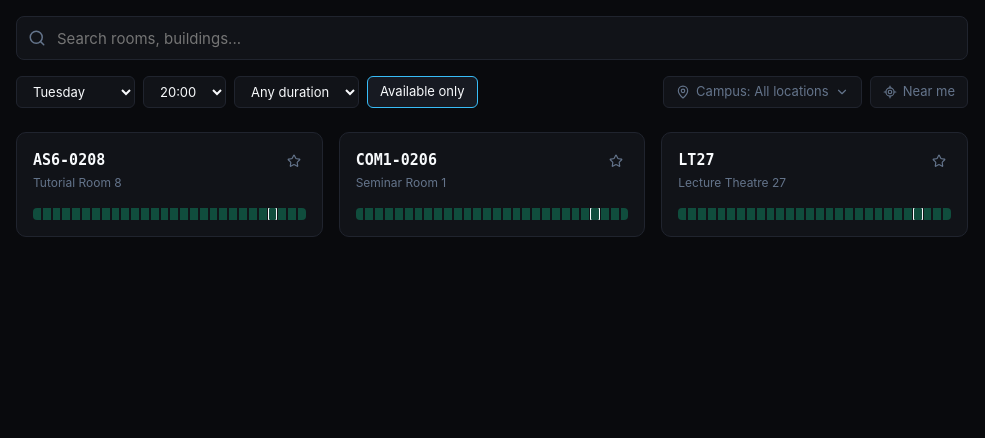
Test case: VenueFinder › allows toggling campus locations via the dropdown to filter venues and update proximity
Check: the heading "COM1-0206" is shown, box [356,149,446,172]
Check: the heading "AS6-0208" is shown, box [33,151,105,169]
Note: Open dropdown
Click the button "Campus: All locations" at point(762, 92), box [663,76,862,108]
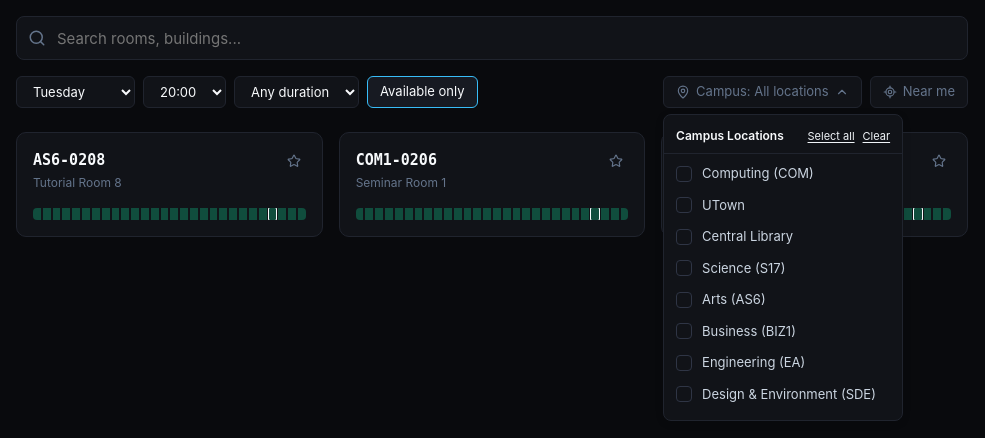
Check: the text "Campus Locations" is shown, box [676,127,784,145]
Note: Tick Computing (COM)
Click the checkbox labelled "Computing (COM)" at point(684, 174), box [676,166,692,182]
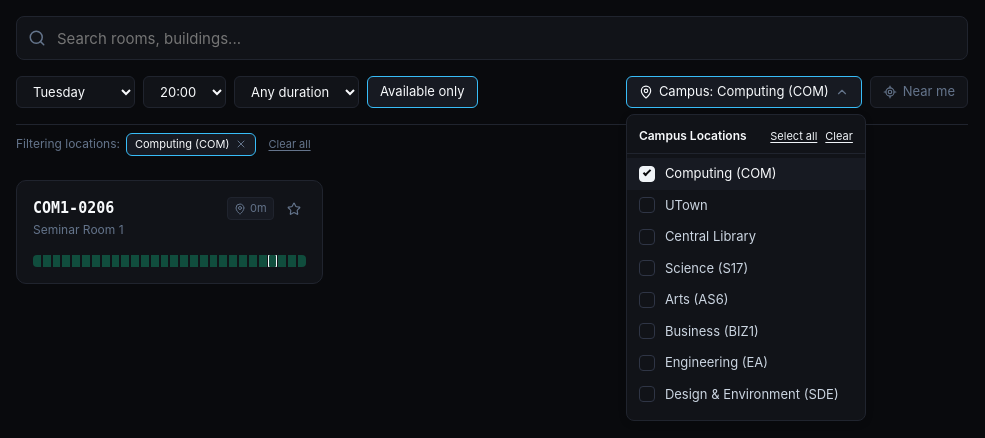
Check: the heading "AS6-0208" is gone
Check: the text "0m" is shown, box [227,197,274,220]
Check: the button "Campus: Computing (COM)" is shown, box [626,76,862,108]
Note: Tick Arts (AS6) as well
Click the checkbox labelled "Arts (AS6)" at point(647, 300), box [639,292,655,308]
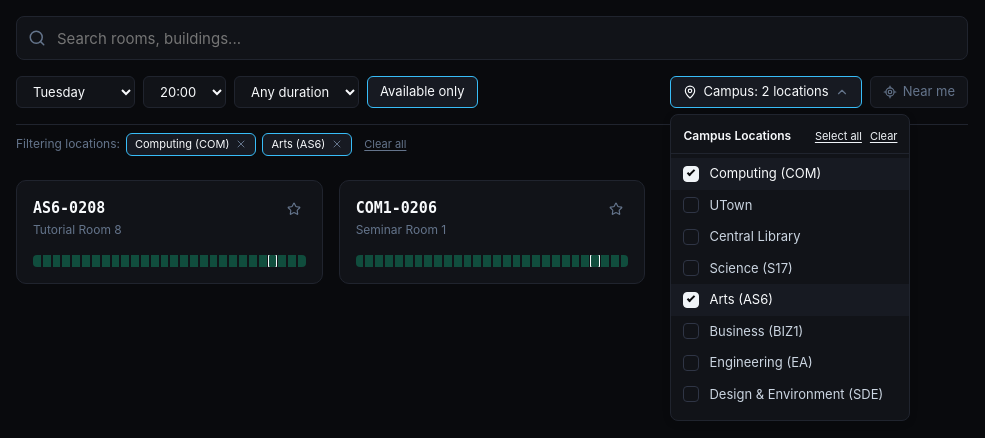
Check: the heading "COM1-0206" is shown, box [356,196,446,219]
Check: the heading "AS6-0208" is shown, box [33,198,105,216]
Check: the button "Campus: 2 locations" is shown, box [670,76,862,108]
Note: Clear filters via active pill
Click the button "Clear all" at point(385, 144), box [358,134,412,154]
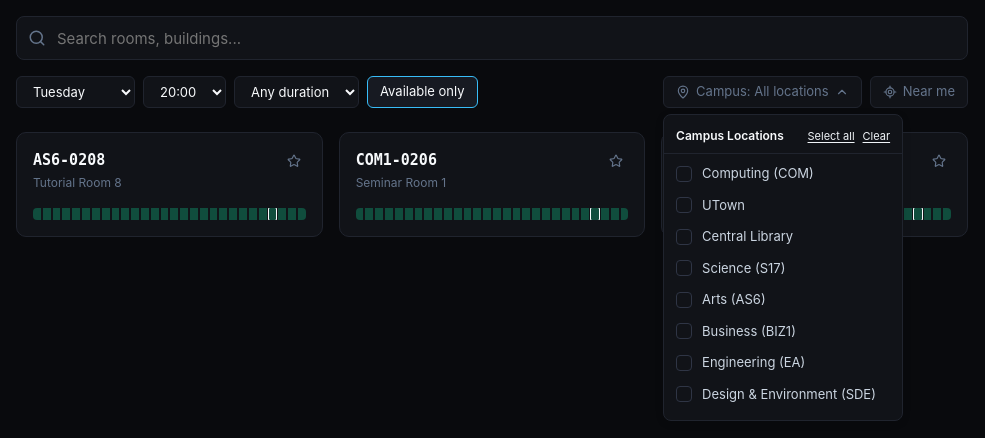
Check: the heading "COM1-0206" is shown, box [356,149,446,172]
Check: the heading "AS6-0208" is shown, box [33,151,105,169]
Check: the heading "LT27" is shown, box [678,151,714,169]
